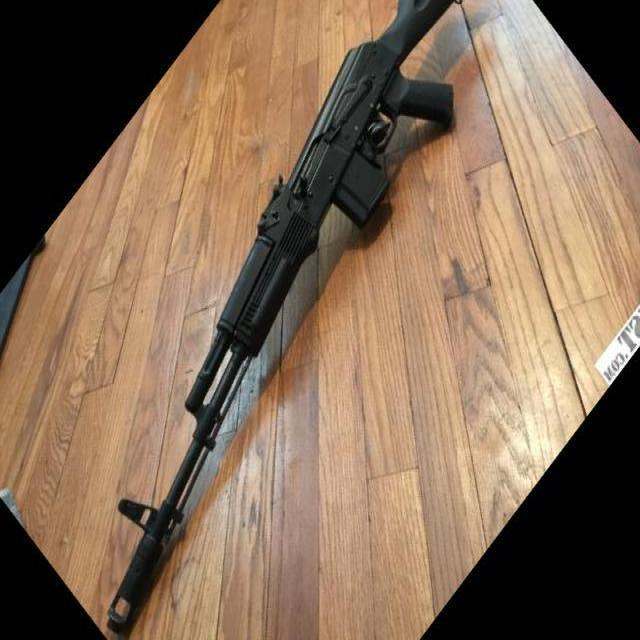Rifle: (107, 0, 455, 636)
